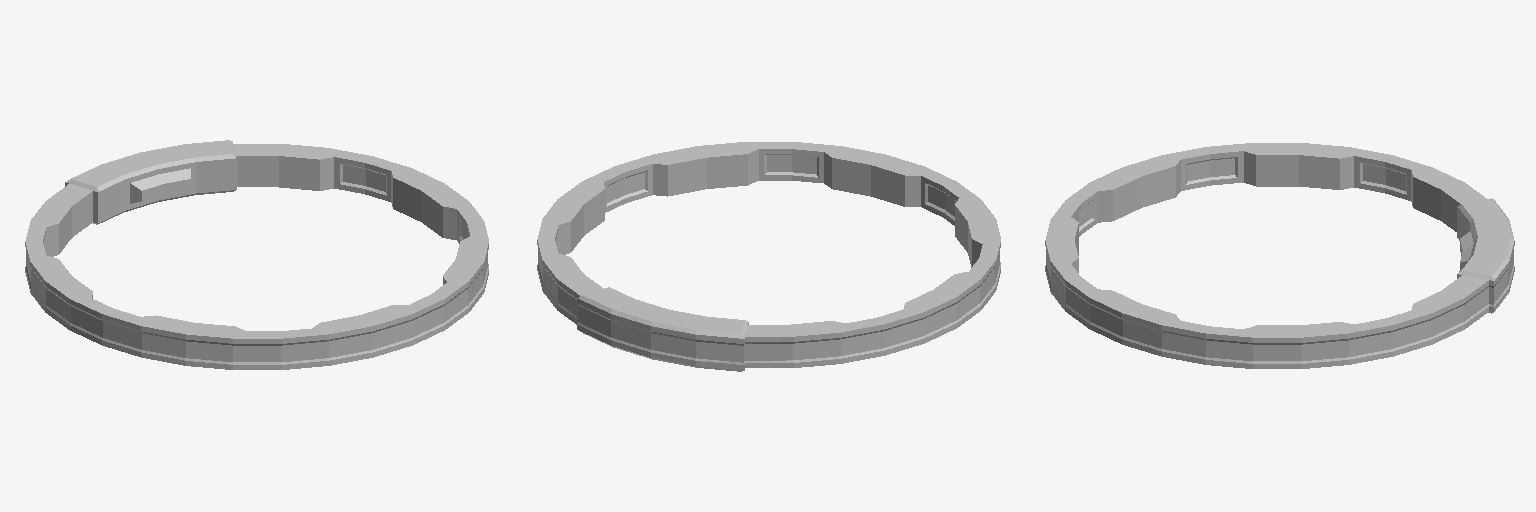
3 renders of one model, left to right at view 1: azimuth 30°, elevation 25°; view 2: azimuth 150°, elevation 25°; view 3: azimuth 270°, elevation 25°, orthographic.
Visible parts, largest first — view 1: Ring_Circle.001; view 2: Ring_Circle.001; view 3: Ring_Circle.001.
Part boxes in pixels (left/top/right/bottom): Ring_Circle.001: left=25, top=140, right=488, bottom=369; Ring_Circle.001: left=537, top=142, right=1000, bottom=371; Ring_Circle.001: left=1045, top=143, right=1514, bottom=368.
Size of the model in its own units: 3.98 by 0.36 by 4.05.